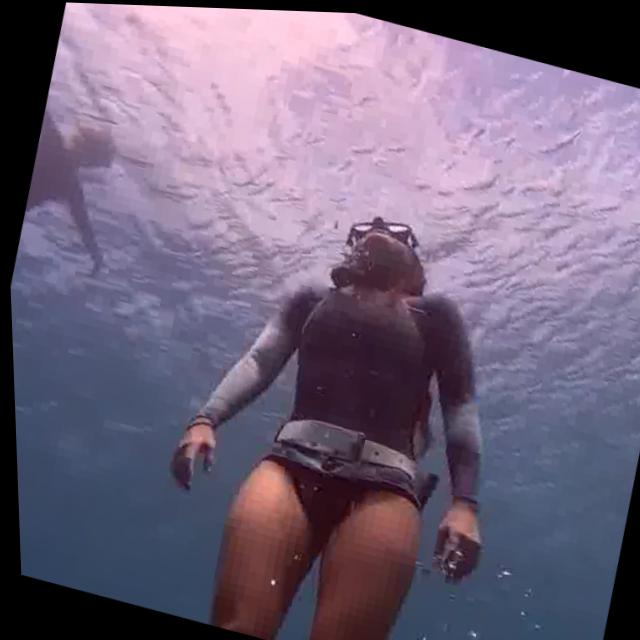human: (86, 140, 566, 640), (1, 21, 179, 410)
